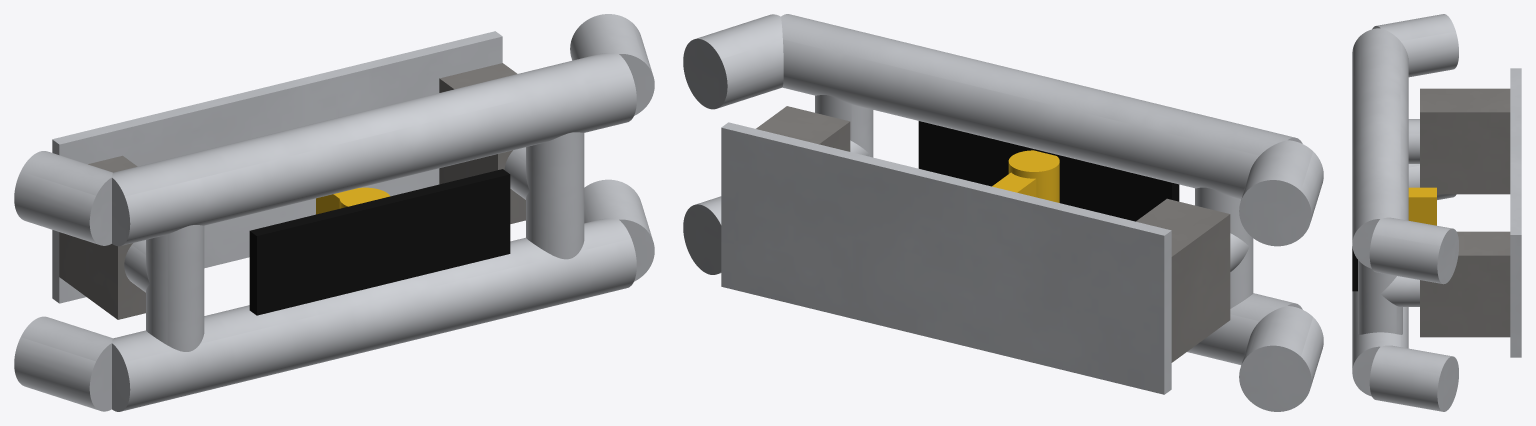
File: rover34_bumper_s.glb
The picture shows the model from 3 angles, left to right: view 1: azimuth 30°, elevation 25°; view 2: azimuth 150°, elevation 25°; view 3: azimuth 270°, elevation 25°; orthographic projection. The views are drawn at different scales.
Visible parts, largest first — view 1: push_bar, mount_plate, rubber_pads, crush_boxes, tow_eye; view 2: mount_plate, push_bar, crush_boxes, rubber_pads, tow_eye; view 3: push_bar, crush_boxes, mount_plate, tow_eye, rubber_pads.
Boxes of the visible parts, x1=… form: push_bar: x1=14, y1=14, x2=654, y2=411; mount_plate: x1=52, y1=31, x2=502, y2=303; rubber_pads: x1=249, y1=169, x2=510, y2=315; crush_boxes: x1=59, y1=63, x2=525, y2=319; tow_eye: x1=316, y1=187, x2=390, y2=214; mount_plate: x1=721, y1=122, x2=1171, y2=394; push_bar: x1=683, y1=14, x2=1323, y2=411; crush_boxes: x1=756, y1=106, x2=1230, y2=362; rubber_pads: x1=918, y1=121, x2=1179, y2=221; tow_eye: x1=992, y1=150, x2=1059, y2=202; push_bar: x1=1352, y1=14, x2=1458, y2=411; crush_boxes: x1=1420, y1=88, x2=1510, y2=337; mount_plate: x1=1510, y1=68, x2=1521, y2=357; tow_eye: x1=1408, y1=187, x2=1436, y2=225; rubber_pads: x1=1352, y1=246, x2=1357, y2=291.
Bounding box in the file's own units: 0.9923 × 0.35 × 0.3.
Materials: 4 (2 with a texture image).
